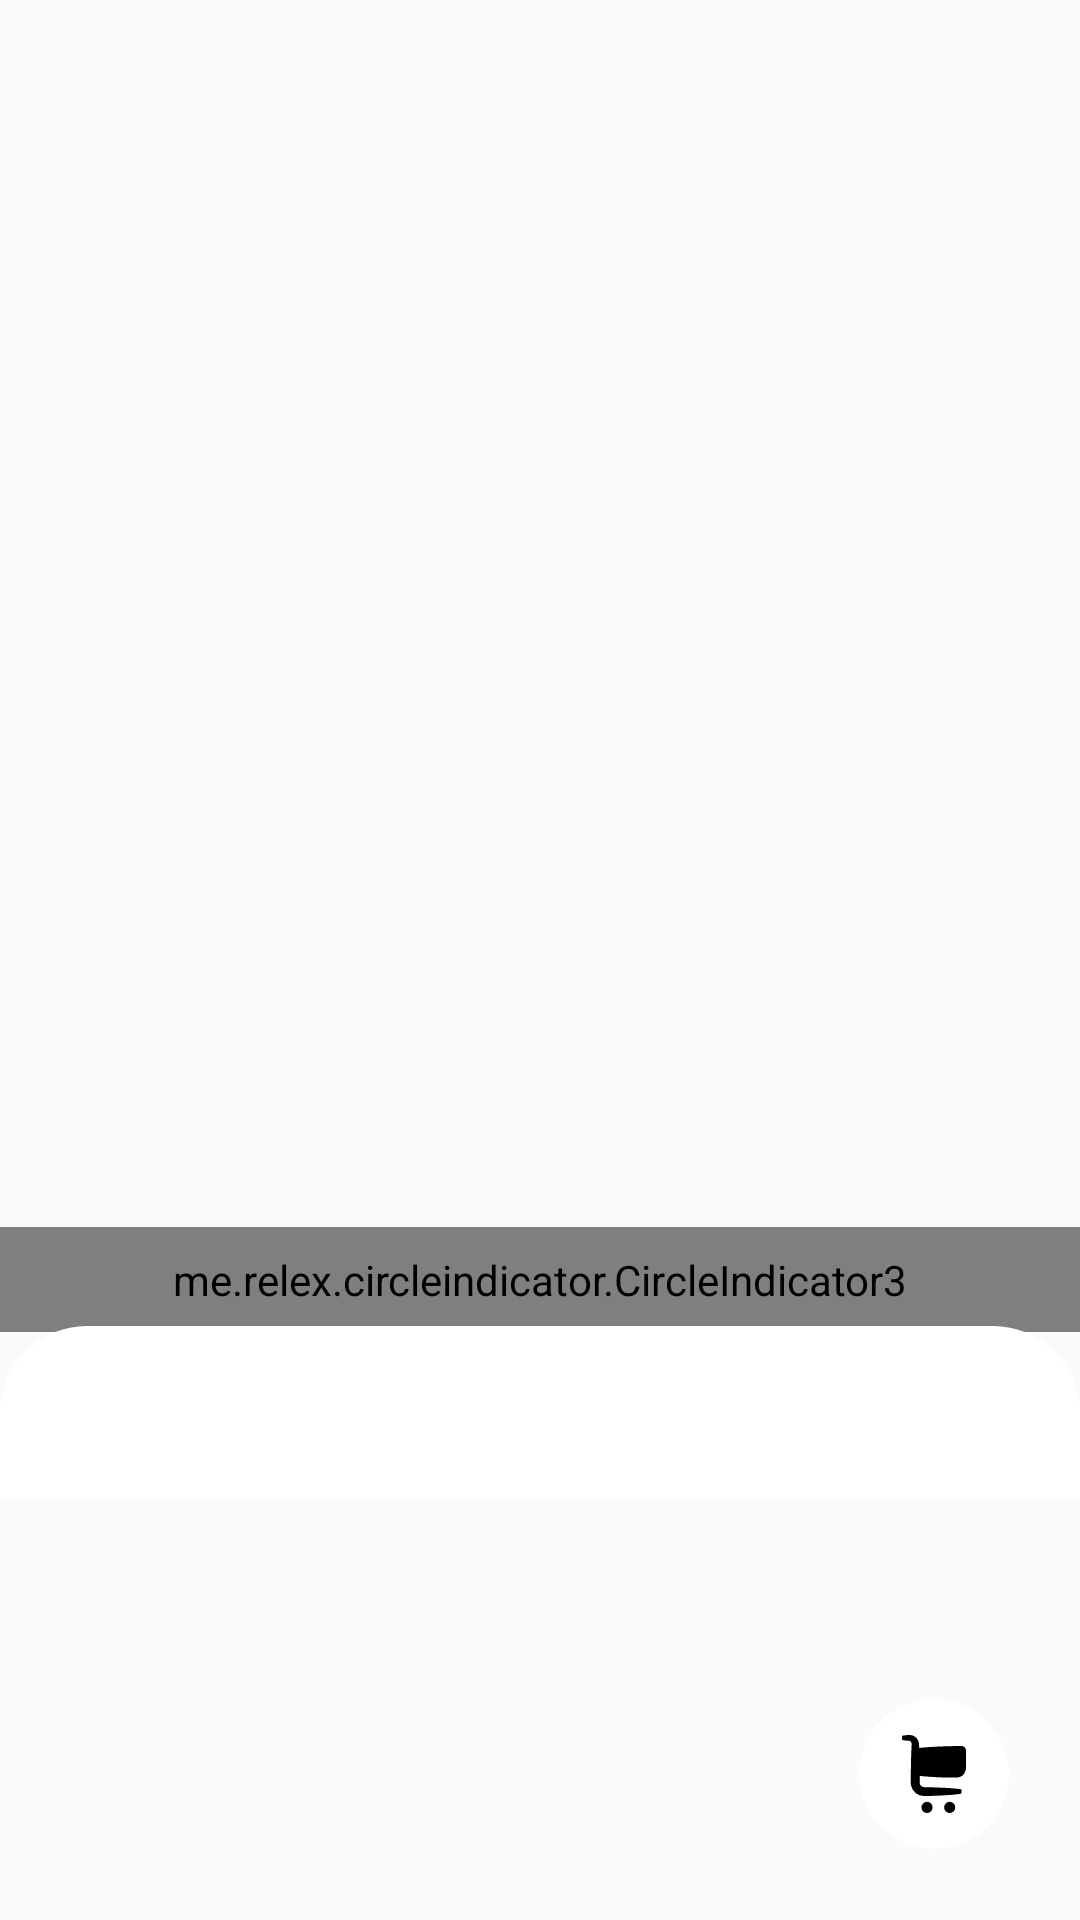

Icon bounding boxes for this 1080 x 1920 phone screenshot, format (x1, y1, x2, y2):
cart: (902, 1735, 966, 1813)
